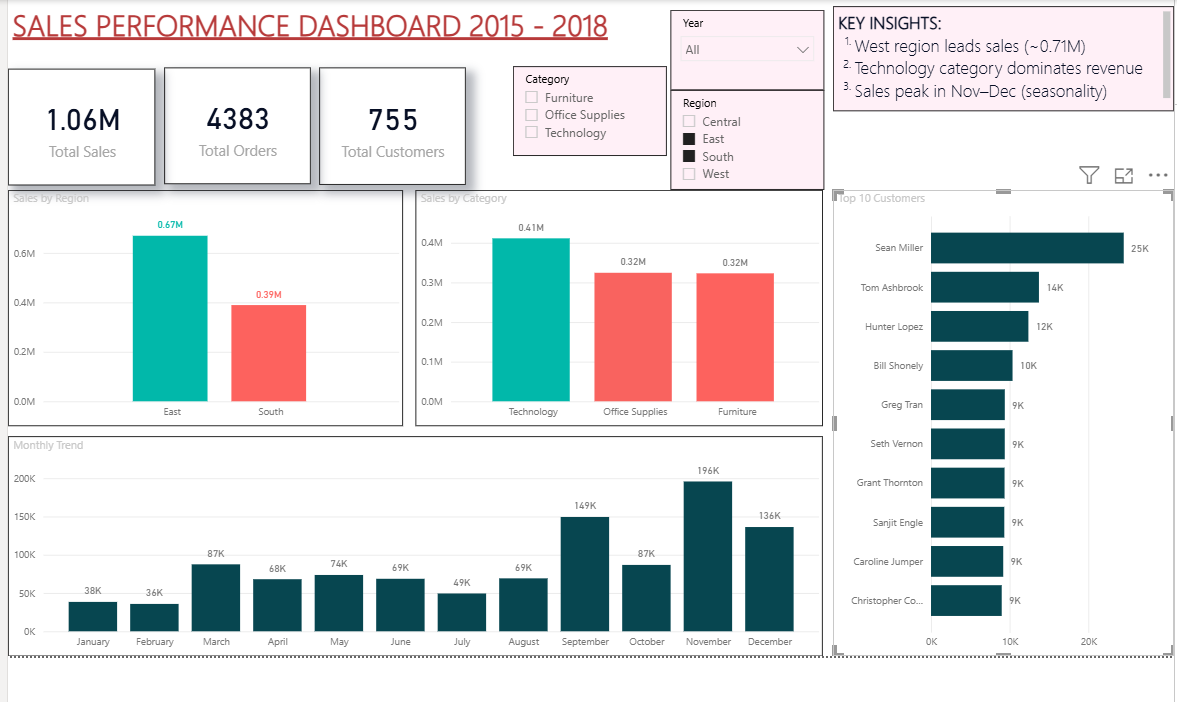

The dashboard page shown, as its layout file describes it:
{"tool":"powerbi","page":{"name":"Page 1","canvas":[1280,720],"ordinal":0},"visuals":[{"type":"card","fields":{"Values":["Sum(train.Sales)"]},"box":[0,75.5,161.9,127.6],"z":0},{"type":"card","fields":{"Values":["CountNonNull(train.Order ID)"]},"box":[171.5,74.1,160.5,127.6],"z":1000},{"type":"card","fields":{"Values":["Count(train.Customer Name)"]},"box":[341.7,74.1,160.5,129],"z":2000},{"type":"columnChart","title":" Sales by Region","fields":{"Y":["Sum(train.Sales)"],"Category":["train.Region"]},"box":[0,208.6,433.6,259.3],"z":3000},{"type":"clusteredColumnChart","title":"Sales by Category","fields":{"Y":["Sum(train.Sales)"],"Category":["train.Category"]},"box":[447.3,208.6,447.3,259.3],"z":4000},{"type":"columnChart","title":"Monthly Trend","fields":{"Category":["train.Order Date.Variation.Date Hierarchy.Month","train.Order Date.Variation.Date Hierarchy.Day"],"Y":["Sum(train.Sales)"]},"box":[0,478.9,894.7,241.5],"z":5000},{"type":"clusteredBarChart","title":"Top 10 Customers","fields":{"Category":["train.Customer Name"],"Y":["Sum(train.Sales)"]},"box":[905.7,208.6,374.6,511.8],"z":6000},{"type":"textbox","box":[0,0,761.6,75.5],"z":7000},{"type":"slicer","fields":{"Values":["train.Order Date.Variation.Date Hierarchy.Year"]},"box":[727.3,11,168.8,87.8],"z":8000},{"type":"textbox","box":[905.7,6.9,374.6,115.3],"z":9000},{"type":"slicer","fields":{"Values":["train.Region"]},"box":[727.3,98.8,168.8,109.8],"z":10000},{"type":"slicer","fields":{"Values":["train.Category"]},"box":[554.4,72.7,168.8,98.8],"z":11000}]}

Visuals, with their boxes in screenshot pixels (x1, y1, x2, y2):
card - Sum(train.Sales): (x1=3, y1=68, x2=150, y2=184)
card - CountNonNull(train.Order ID): (x1=159, y1=67, x2=304, y2=183)
card - Count(train.Customer Name): (x1=313, y1=67, x2=458, y2=184)
" Sales by Region" columnChart: (x1=3, y1=189, x2=396, y2=424)
"Sales by Category" clusteredColumnChart: (x1=409, y1=189, x2=814, y2=424)
"Monthly Trend" columnChart: (x1=3, y1=434, x2=814, y2=653)
"Top 10 Customers" clusteredBarChart: (x1=824, y1=189, x2=1164, y2=653)
textbox: (x1=3, y1=0, x2=694, y2=68)
slicer - train.Order Date.Variation.Date Hierarchy.Year: (x1=663, y1=10, x2=816, y2=90)
textbox: (x1=824, y1=6, x2=1164, y2=111)
slicer - train.Region: (x1=663, y1=90, x2=816, y2=189)
slicer - train.Category: (x1=506, y1=66, x2=659, y2=156)
